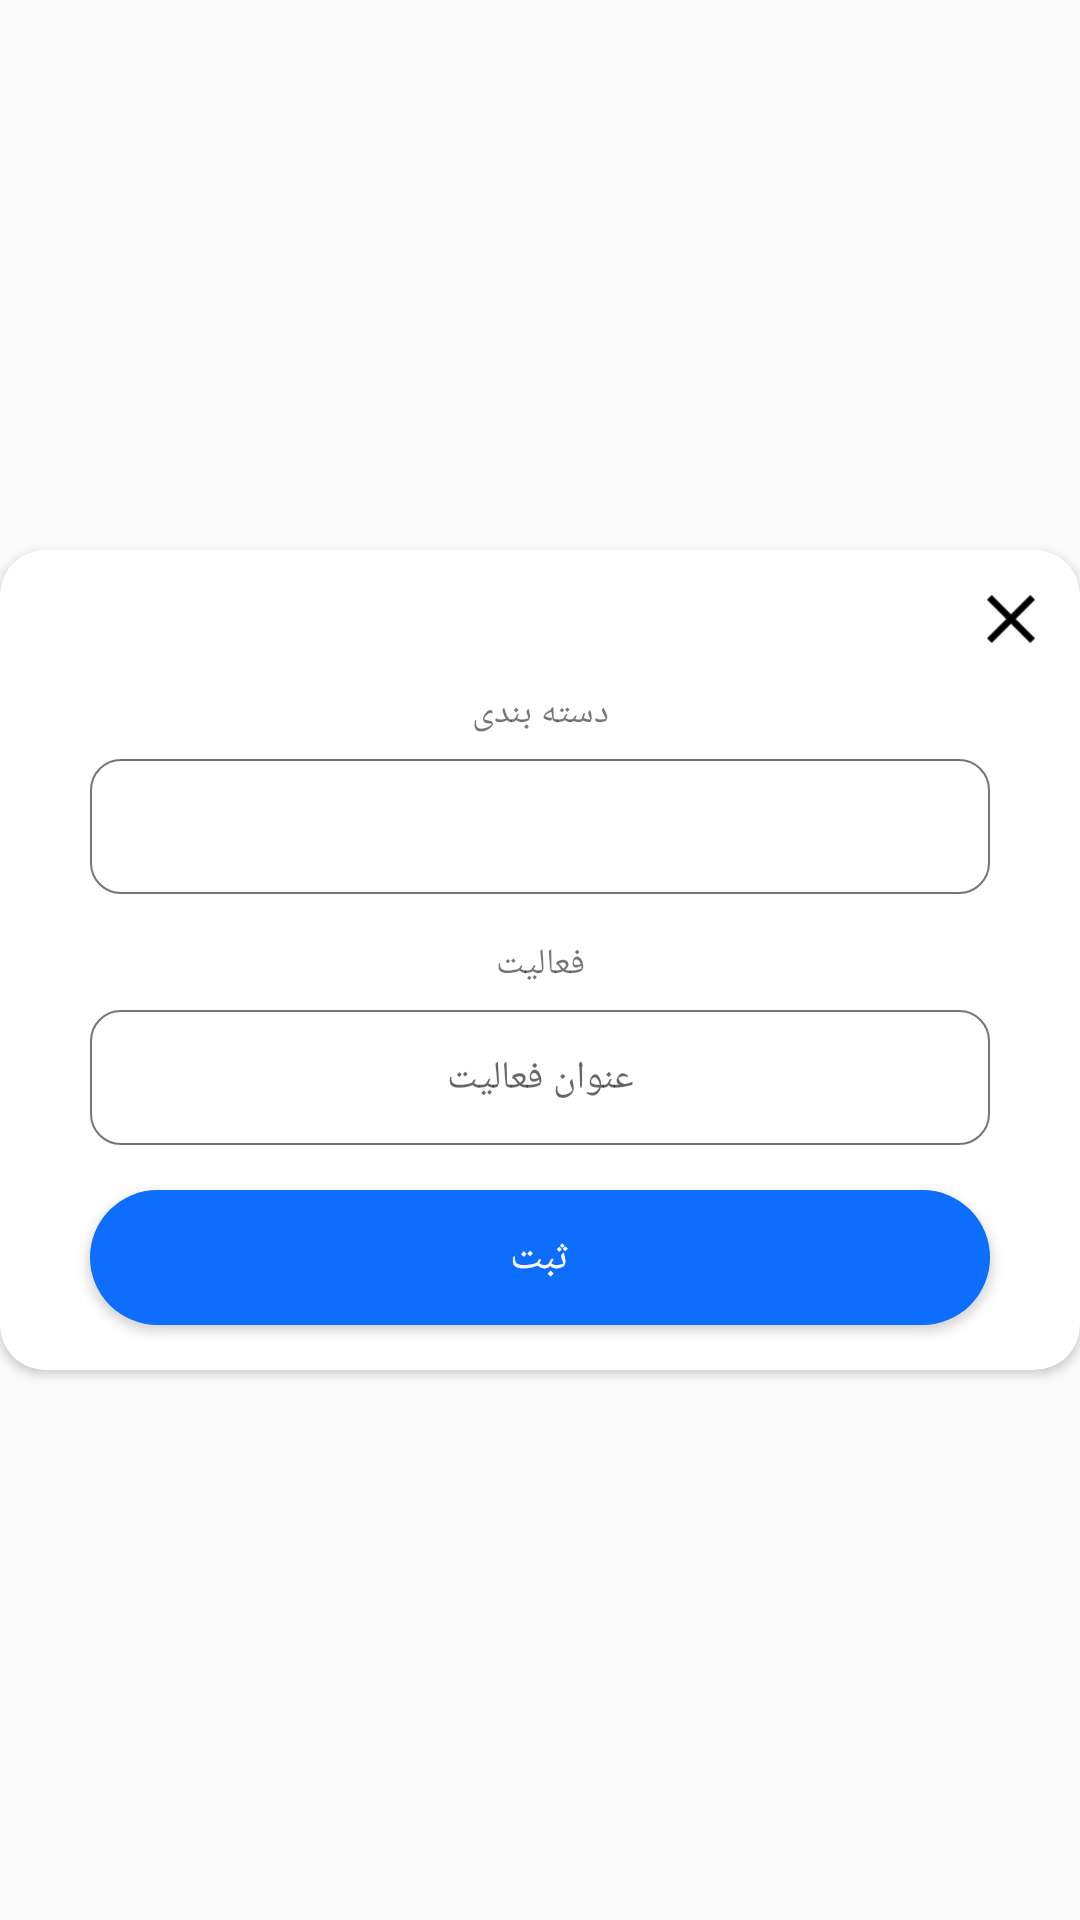

Named icons in this screenshot (1080*1920) and their bounding boxes, (x1=x1, y1=y1, x2=x2, y2=y2):
close: (x1=987, y1=595, x2=1035, y2=643)
